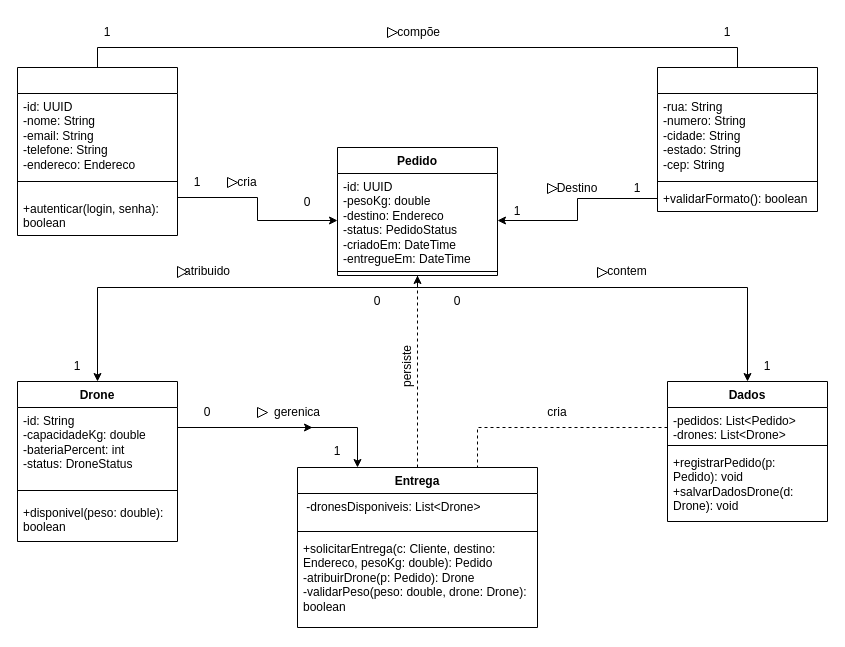
The diagram is 845 pixels wide and 647 high, and some of its shapes have lost their labels. Each missing label, with the box of its shape:
Cliente: (16, 66, 178, 236)
Endereço: (656, 66, 818, 212)
